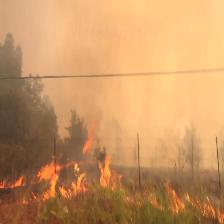fire: (0, 139, 224, 224)
